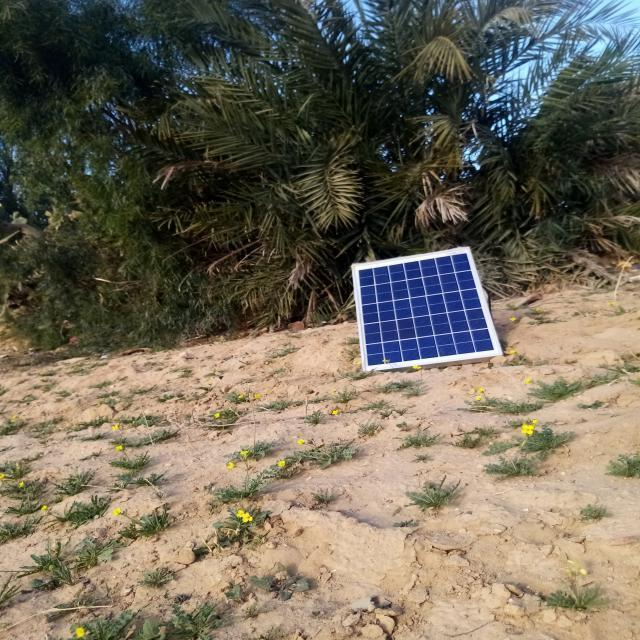Normal Solar Panel: (354, 247, 503, 370)
